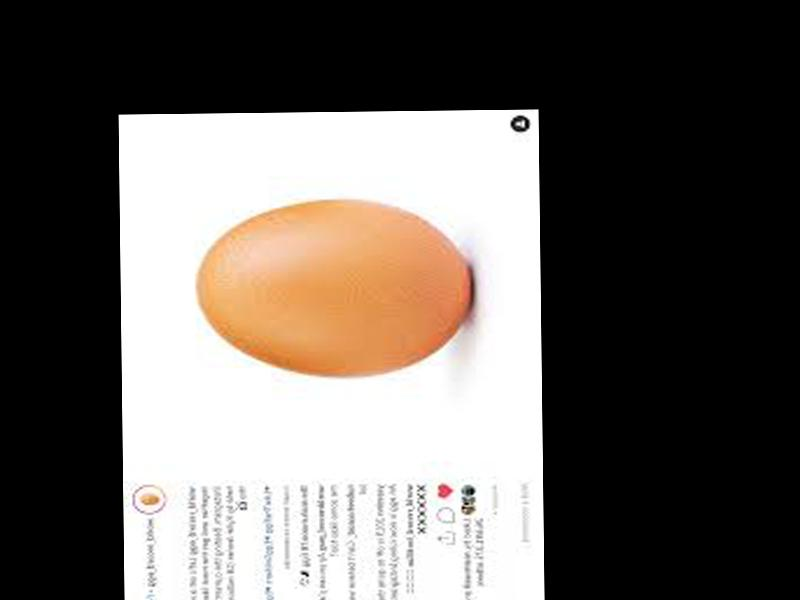Eggs: (196, 198, 469, 379)
